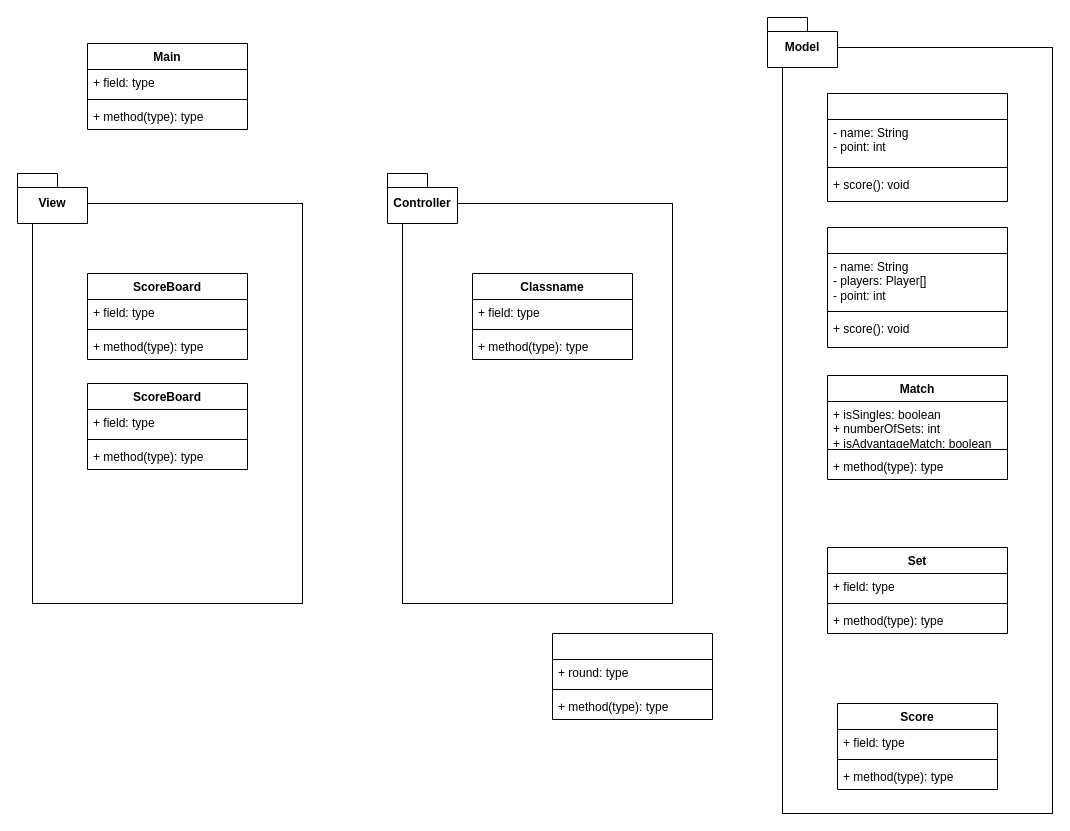
This 1070x831 diagram has some shape labels left out. Here are the shapes that lost their labels. From the top down, the box of each, then its label:
(826, 92, 1008, 202): Player
(826, 226, 1008, 348): Team
(552, 632, 712, 720): Game
